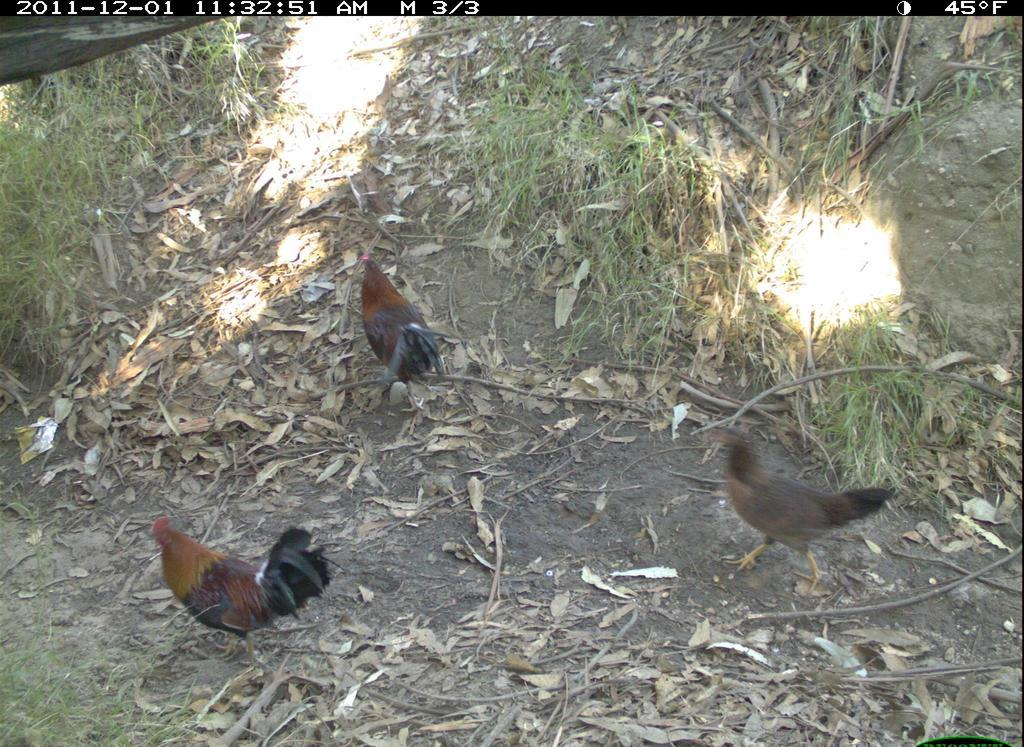bird: (706, 420, 900, 609), (148, 514, 335, 675), (338, 250, 460, 425)
